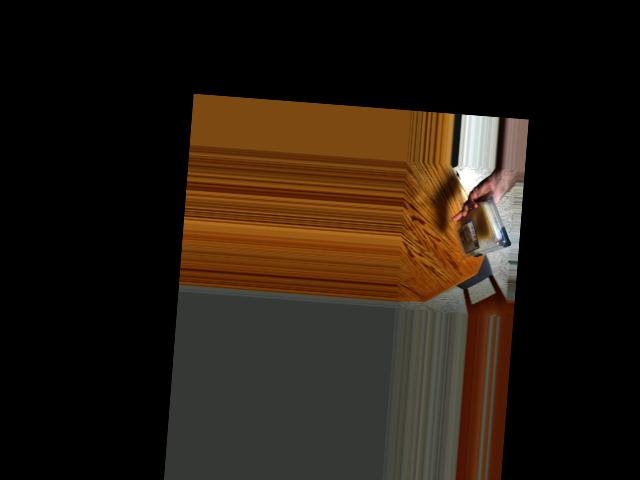cheese: (459, 198, 505, 259)
